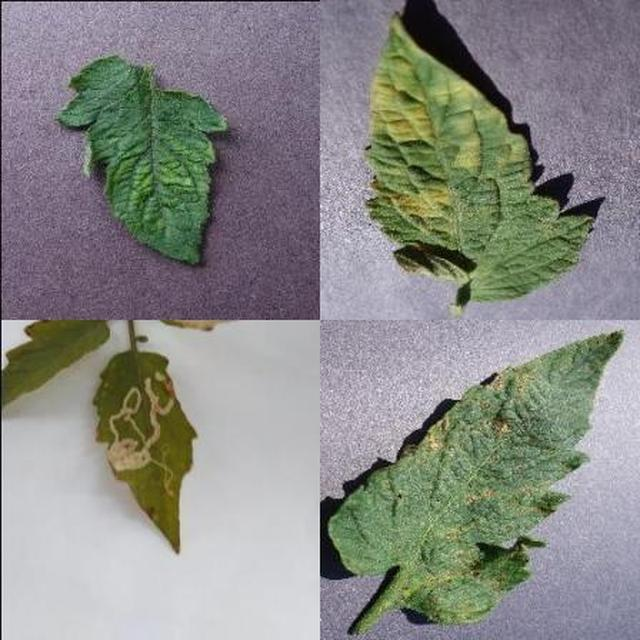Mosaic Virus Leaf: (147, 226, 640, 640)
